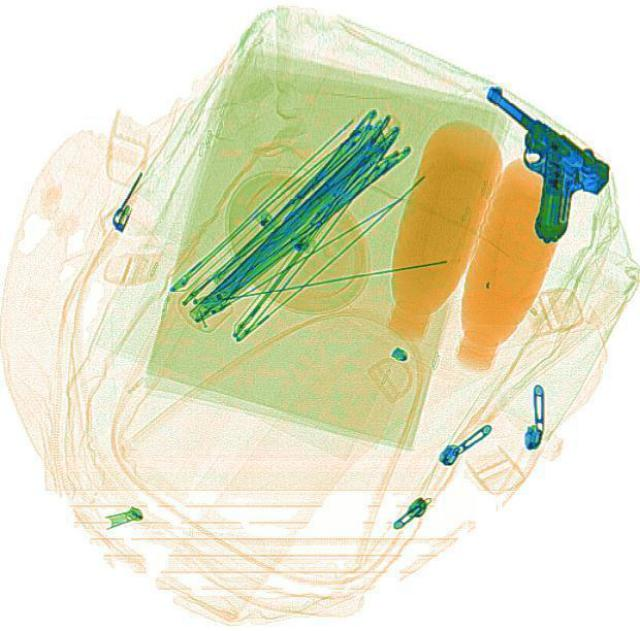Gun: (424, 77, 620, 246)
